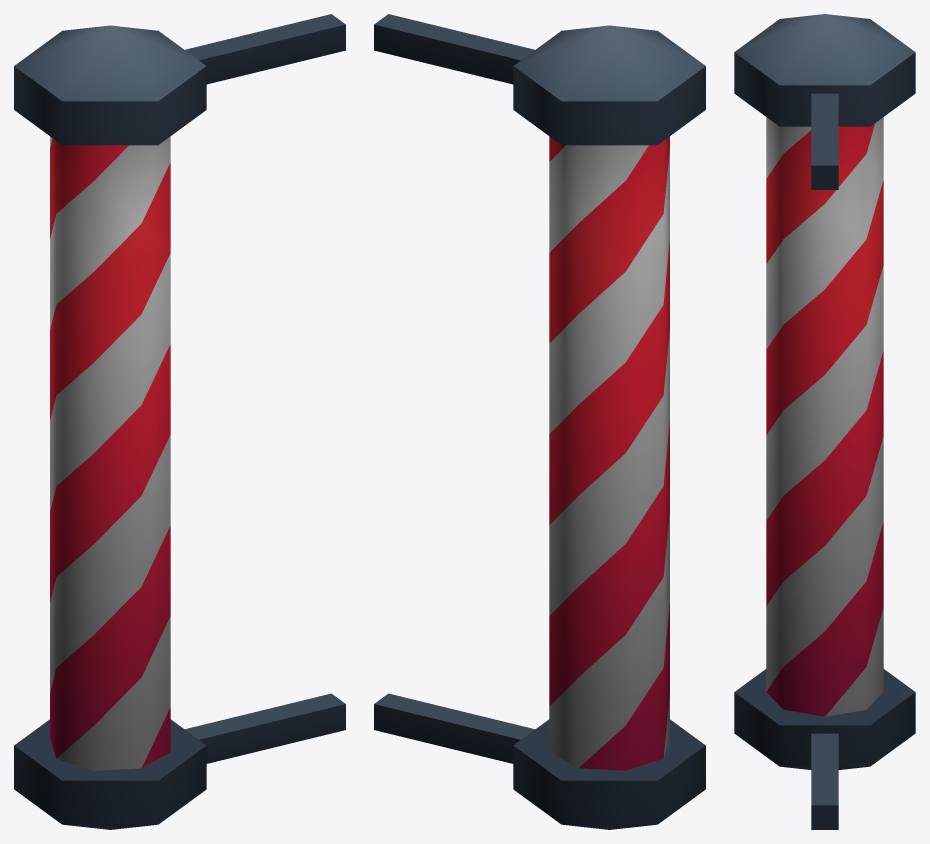
The model's file is Barber_Cylinder_1A.fbx.
3 renders of one model, left to right at view 1: azimuth 30°, elevation 25°; view 2: azimuth 150°, elevation 25°; view 3: azimuth 270°, elevation 25°, orthographic. The views are drawn at different scales.
Visible parts, largest first — view 1: Barber_Cylinder_1A_Center, Barber_Cylinder_1A; view 2: Barber_Cylinder_1A_Center, Barber_Cylinder_1A; view 3: Barber_Cylinder_1A_Center, Barber_Cylinder_1A.
Boxes of the visible parts, bbox=[...] form: Barber_Cylinder_1A_Center: bbox=[50, 136, 170, 770]; Barber_Cylinder_1A: bbox=[14, 14, 345, 829]; Barber_Cylinder_1A_Center: bbox=[549, 136, 669, 770]; Barber_Cylinder_1A: bbox=[374, 14, 705, 829]; Barber_Cylinder_1A_Center: bbox=[766, 117, 883, 716]; Barber_Cylinder_1A: bbox=[734, 14, 915, 829].
Size of the model in its own units: 132 by 337 by 73.02.
